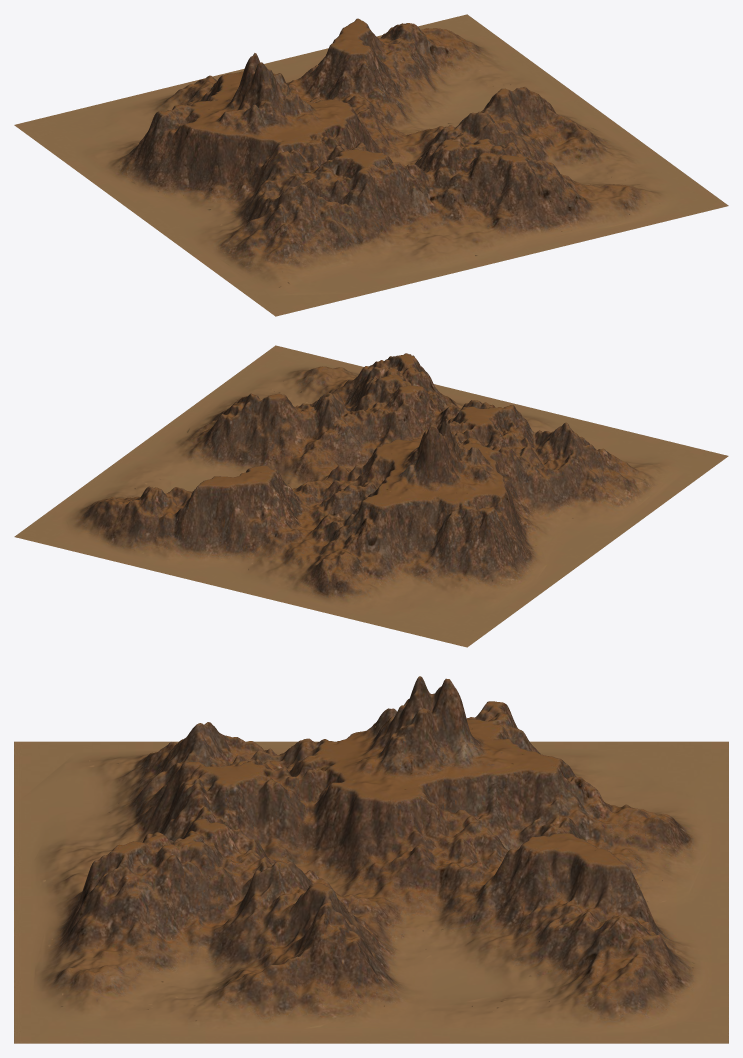
Rendered from canyon.gltf.
3 renders of one model, top to bottom at view 1: azimuth 30°, elevation 25°; view 2: azimuth 150°, elevation 25°; view 3: azimuth 270°, elevation 25°, orthographic. The views are drawn at different scales.
Parts seen in each view (by area): view 1: Material_001-material (×3); view 2: Material_001-material (×3); view 3: Material_001-material (×3).
Boxes of the visible parts, x1,y1,x2,y2 form: Material_001-material (×3): (14, 14, 728, 316); Material_001-material (×3): (14, 345, 728, 647); Material_001-material (×3): (14, 676, 728, 1043).
Size of the model in its own units: 20.33 by 4.86 by 20.33.
1 material, 1 textured.
